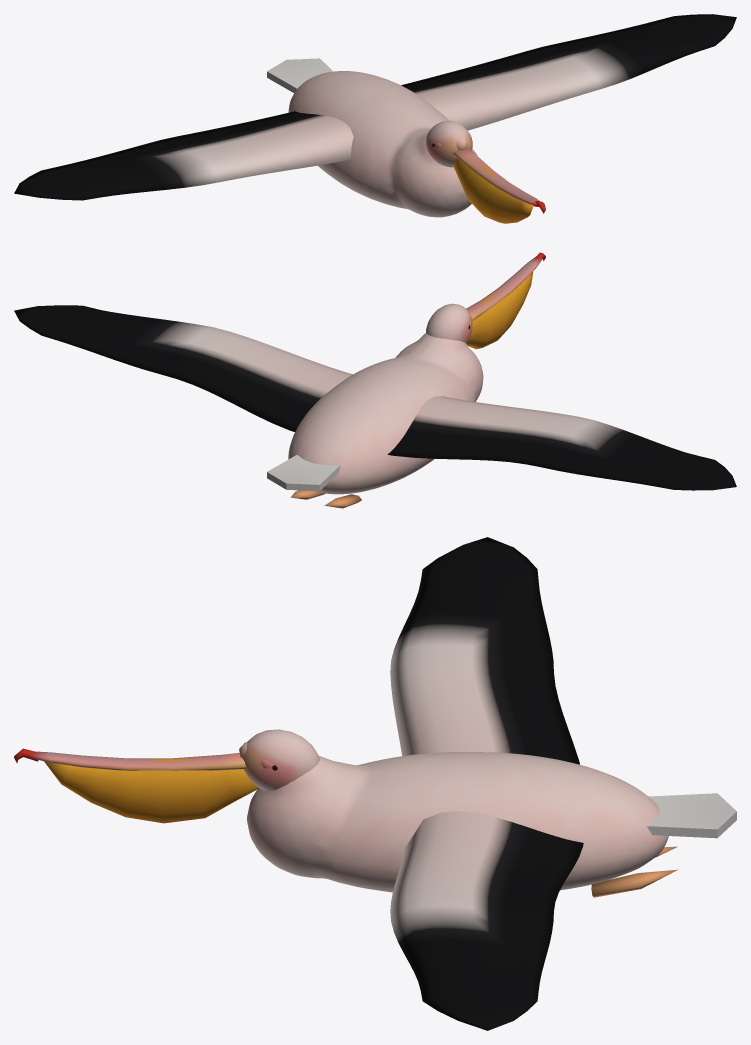
Rendered from WhitePelicanFlight.fbx.
3 renders of one model, top to bottom at view 1: azimuth 30°, elevation 25°; view 2: azimuth 150°, elevation 25°; view 3: azimuth 270°, elevation 25°, orthographic. The views are drawn at different scales.
Visible parts, largest first — view 1: WhitePelicanFlight; view 2: WhitePelicanFlight; view 3: WhitePelicanFlight.
Part boxes in pixels (x1=…): WhitePelicanFlight: x1=14, y1=14, x2=736, y2=223; WhitePelicanFlight: x1=14, y1=252, x2=736, y2=508; WhitePelicanFlight: x1=14, y1=537, x2=736, y2=1030.
Size of the model in its own units: 3 by 0.4293 by 1.86.
